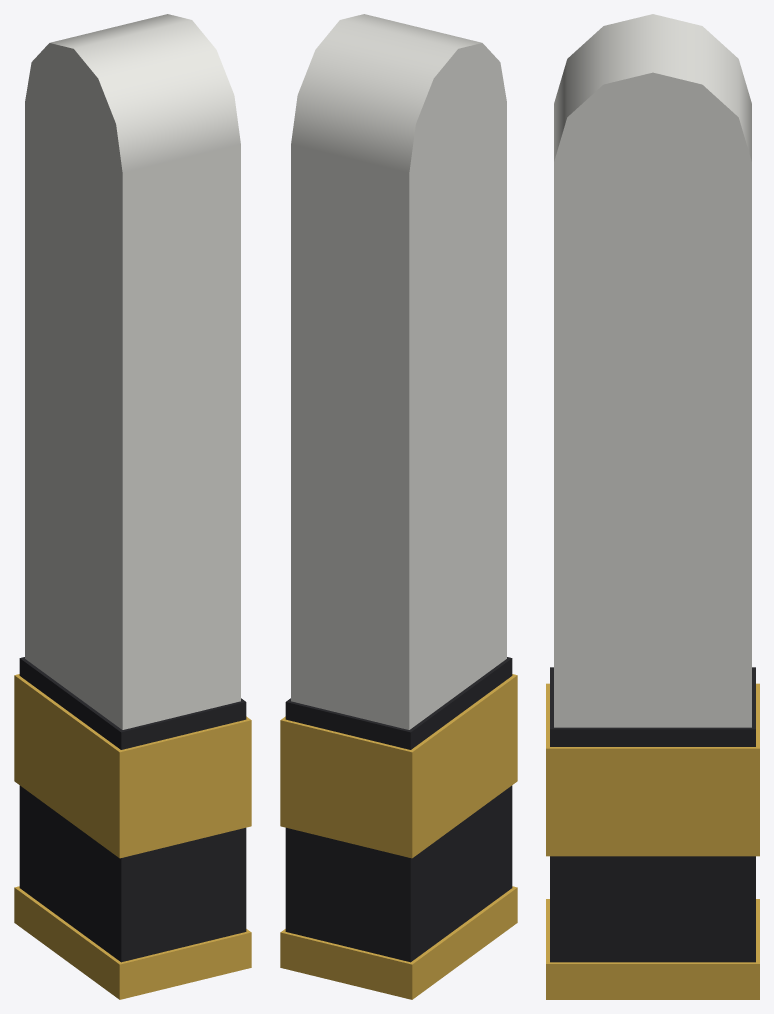
The model's file is section-12.obj.
3 renders of one model, left to right at view 1: azimuth 30°, elevation 25°; view 2: azimuth 150°, elevation 25°; view 3: azimuth 270°, elevation 25°, orthographic.
Size of the model in its own units: 0.078 by 0.515 by 0.108.
Materials: 1 (1 with a texture image).
